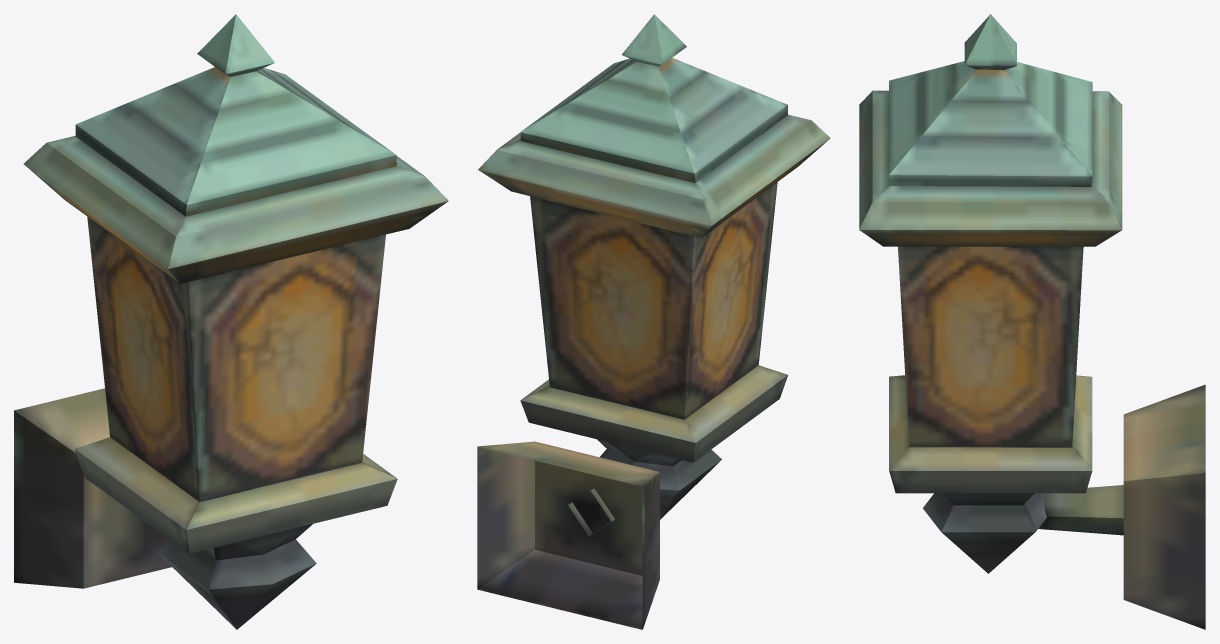
Rendered from crypt_wall_light02.fbx.
3 views of the same model, side by side, from view 1: azimuth 30°, elevation 25°; view 2: azimuth 150°, elevation 25°; view 3: azimuth 270°, elevation 25° (orthographic). The views are drawn at different scales.
Parts seen in each view (by area): view 1: obj0.065; view 2: obj0.065; view 3: obj0.065.
Part boxes in pixels (x1=…): obj0.065: x1=14, y1=14, x2=448, y2=629; obj0.065: x1=477, y1=14, x2=830, y2=629; obj0.065: x1=859, y1=14, x2=1205, y2=629.
Size of the model in its own units: 0.6032 by 1.29 by 0.7067.
